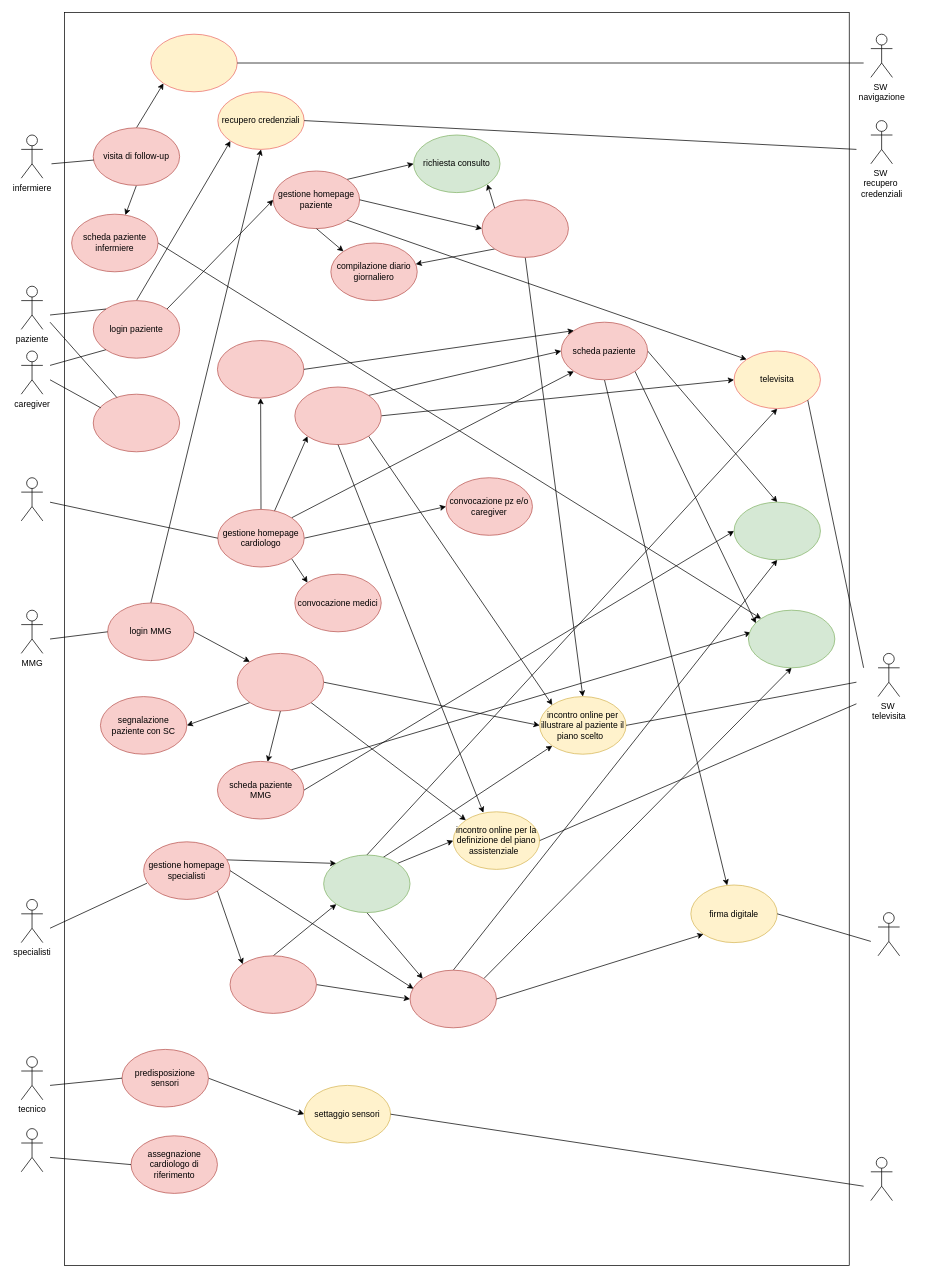
Some shapes in this 926 by 1278 pixel diagram are drawn without their labels. Here are the shapes that lost their labels. From the top down, the box of each, then its label:
(150, 33, 237, 92): navigazione
(481, 199, 568, 257): notifiche paziente
(217, 340, 304, 398): notifiche cardiologo
(93, 393, 180, 452): self-check in
(294, 386, 381, 445): agenda cardiologo
(21, 477, 43, 521): cardiologo
(733, 501, 820, 560): dati visita
(748, 609, 835, 668): dati monitoraggio
(237, 653, 324, 711): gestione homepage MMG
(323, 854, 410, 913): agenda specialisti
(877, 912, 900, 956): SW firma digitale
(229, 955, 316, 1013): notifiche specialisti
(409, 969, 496, 1028): scheda paziente specialisti
(21, 1128, 43, 1172): operatore
(870, 1157, 892, 1201): sw sensori
